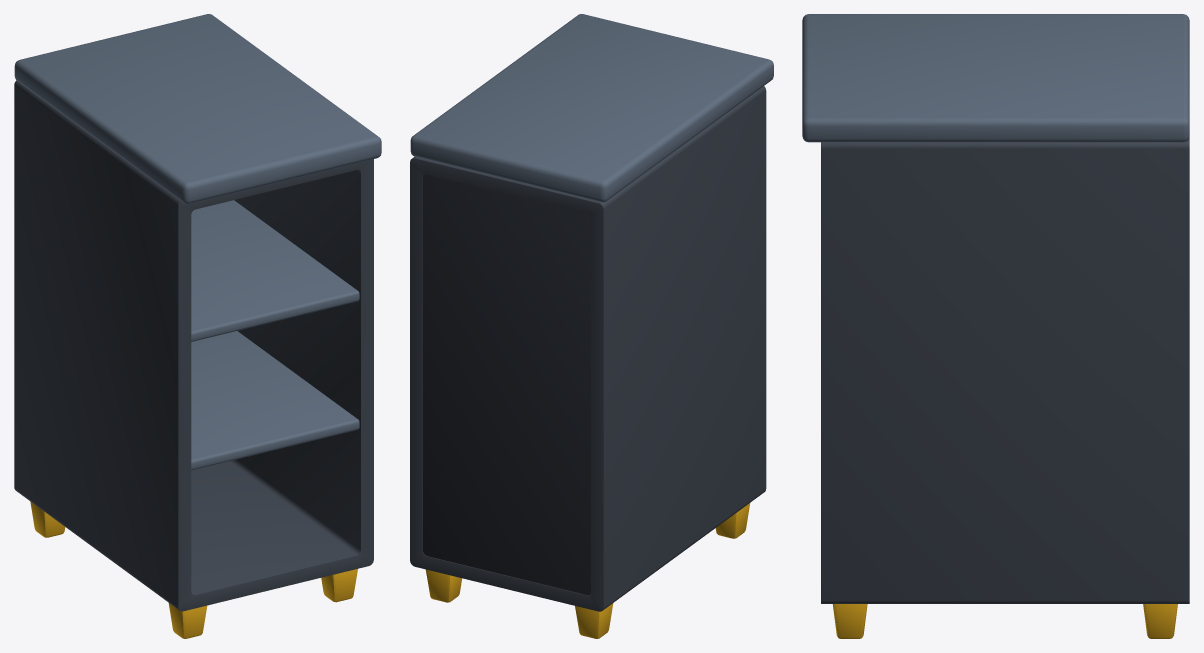
File: nicho_cozinha_grafite.glb
3 renders of one model, left to right at view 1: azimuth 30°, elevation 25°; view 2: azimuth 150°, elevation 25°; view 3: azimuth 270°, elevation 25°, orthographic. The views are drawn at different scales.
Parts seen in each view (by area): view 1: nicho_cozinha_grafite; view 2: nicho_cozinha_grafite; view 3: nicho_cozinha_grafite.
Part boxes in pixels (x1=…): nicho_cozinha_grafite: x1=14, y1=14, x2=381, y2=638; nicho_cozinha_grafite: x1=410, y1=14, x2=773, y2=638; nicho_cozinha_grafite: x1=802, y1=14, x2=1189, y2=638.
Size of the model in its own units: 0.398 by 0.9 by 0.599.
1 material, 1 textured.
